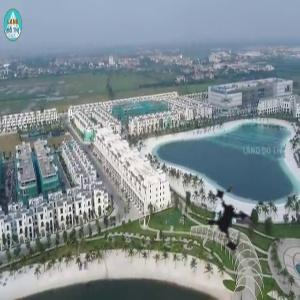drone: (166, 157, 292, 283)
